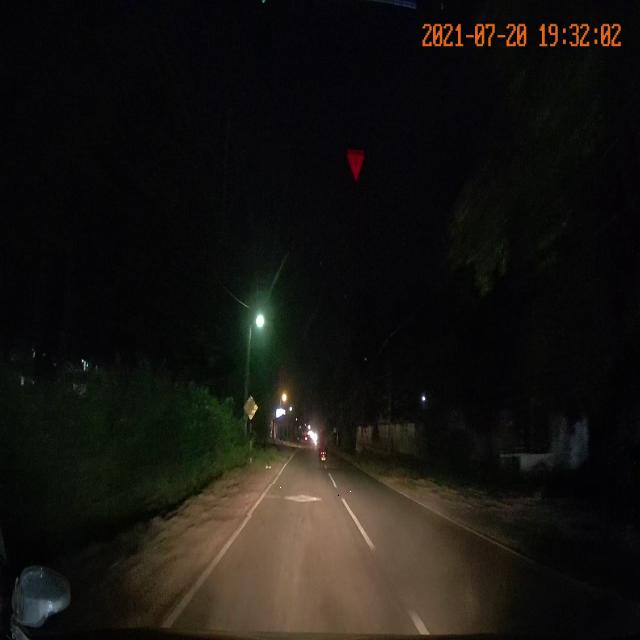diamond: (245, 485, 354, 515)
